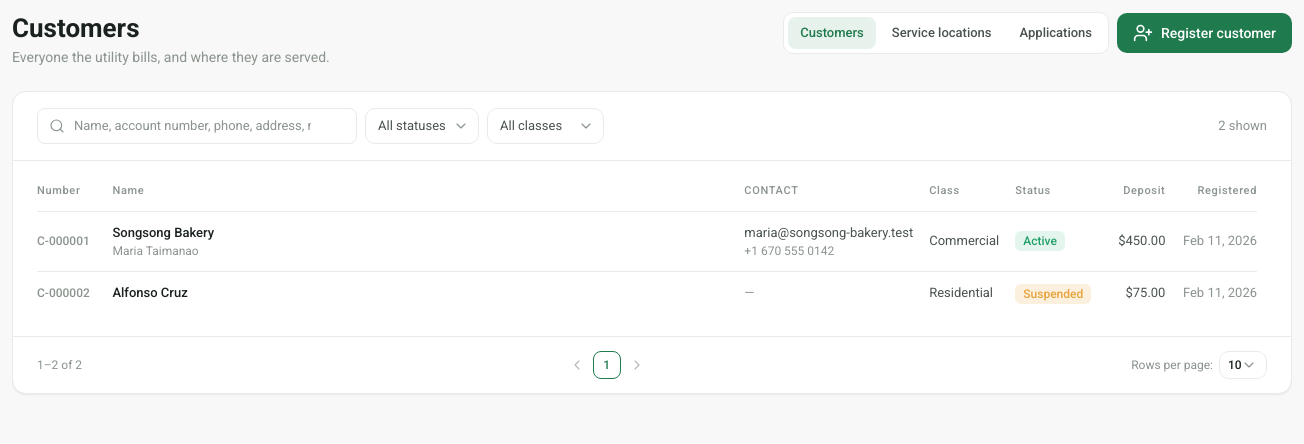
Test: CustomersPage › the search field › reports a permission refusal from the search endpoint
Expected: the text "Songsong Bakery" is shown, [112,225,214,240]
In the search field named "Search customers": point(197, 126) [37,108,357,144], type "cruz"
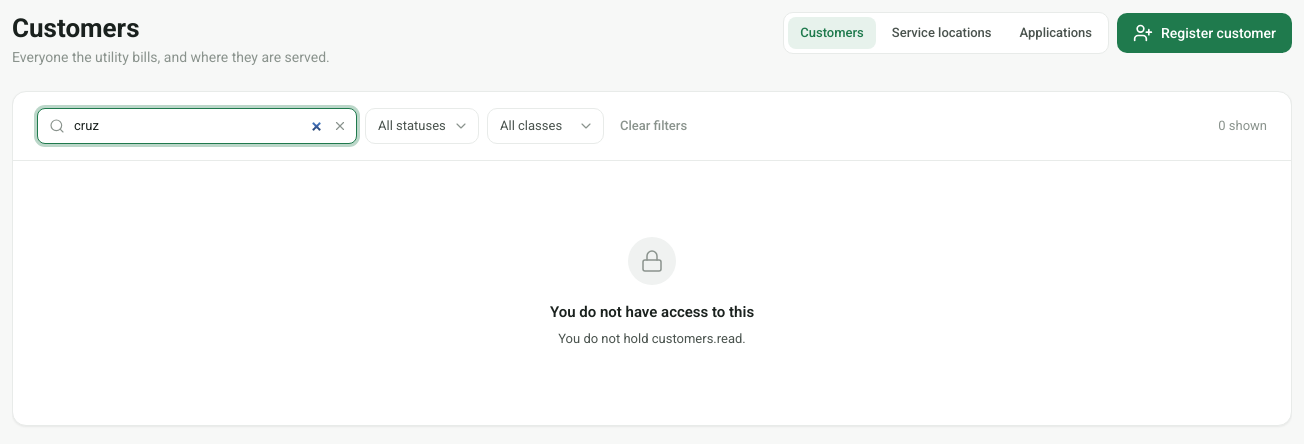
Result: the message shows "You do not have access to this" at [550,302,754,320]
